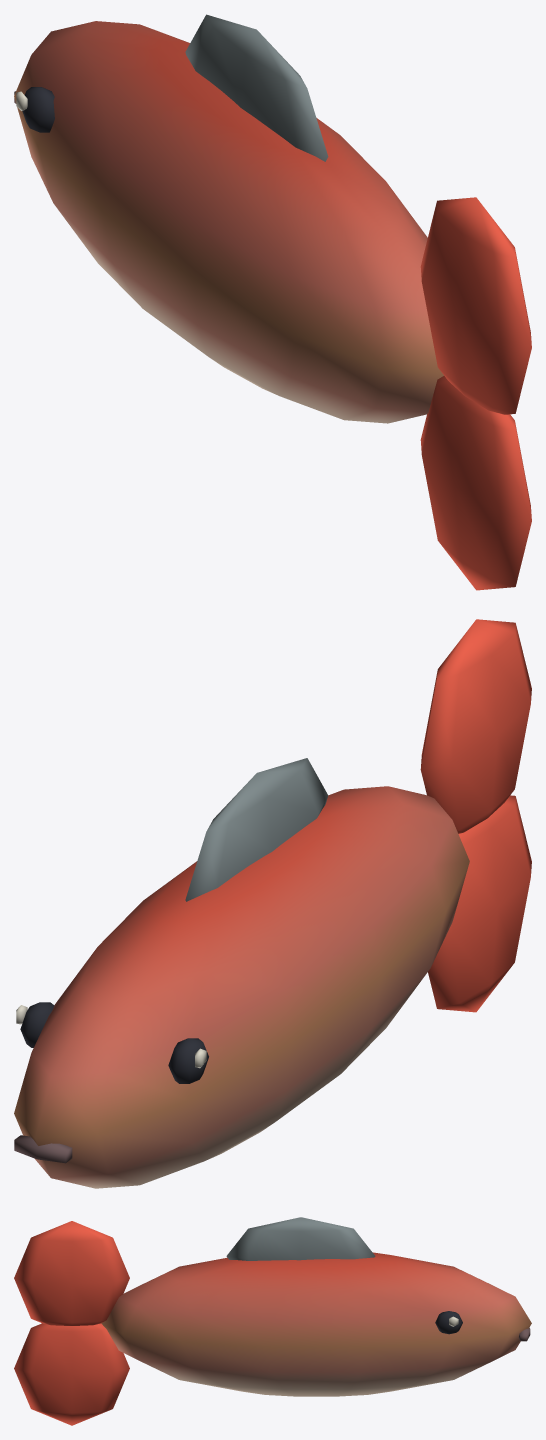
The model's file is fish_mullet.glb.
3 views of the same model, one above another, from view 1: azimuth 30°, elevation 25°; view 2: azimuth 150°, elevation 25°; view 3: azimuth 270°, elevation 25° (orthographic). The views are drawn at different scales.
Visible parts, largest first — view 1: Body, Tail; view 2: Body, Tail; view 3: Body, Tail.
Boxes of the visible parts, bbox=[...] form: Body: bbox=[14, 14, 443, 423]; Tail: bbox=[420, 197, 531, 590]; Body: bbox=[14, 758, 469, 1188]; Tail: bbox=[420, 619, 531, 1012]; Body: bbox=[101, 1217, 531, 1396]; Tail: bbox=[14, 1221, 129, 1425].
Size of the model in its own units: 0.2184 by 0.4446 by 1.
